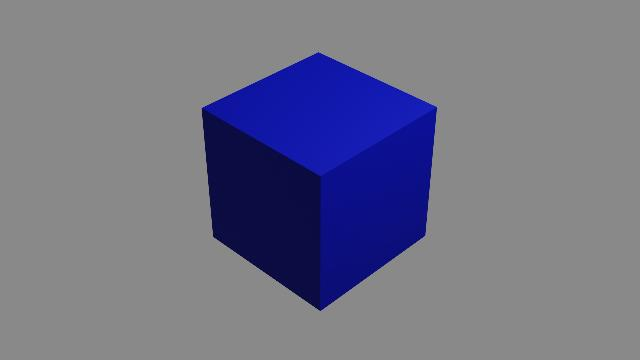Cube: (194, 48, 442, 316)
